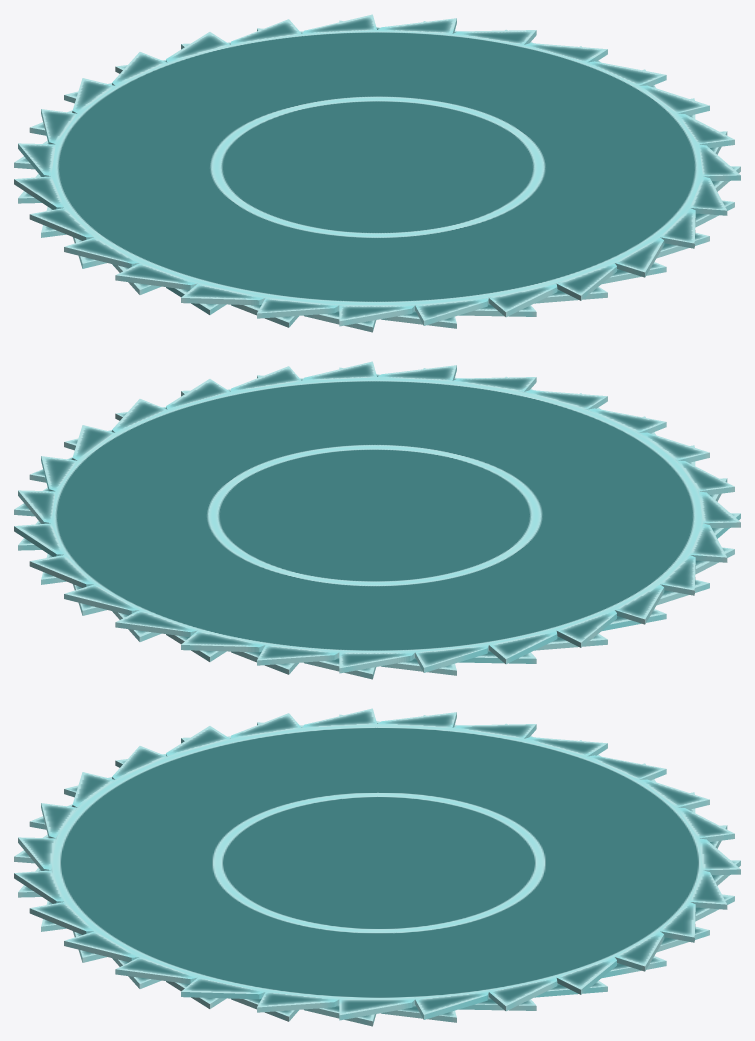
The model's file is blades.FBX.
3 views of the same model, one above another, from view 1: azimuth 30°, elevation 25°; view 2: azimuth 150°, elevation 25°; view 3: azimuth 270°, elevation 25° (orthographic).
Visible parts, largest first — view 1: Cylinder003, Cylinder002; view 2: Cylinder003, Cylinder002; view 3: Cylinder003, Cylinder002.
Boxes of the visible parts, x1=… form: Cylinder003: x1=14, y1=14, x2=740, y2=326; Cylinder002: x1=14, y1=20, x2=740, y2=332; Cylinder003: x1=14, y1=361, x2=740, y2=673; Cylinder002: x1=14, y1=367, x2=740, y2=679; Cylinder003: x1=14, y1=708, x2=740, y2=1020; Cylinder002: x1=14, y1=714, x2=740, y2=1026.
Bounding box in the file's own units: 312 × 4.92 × 312.
